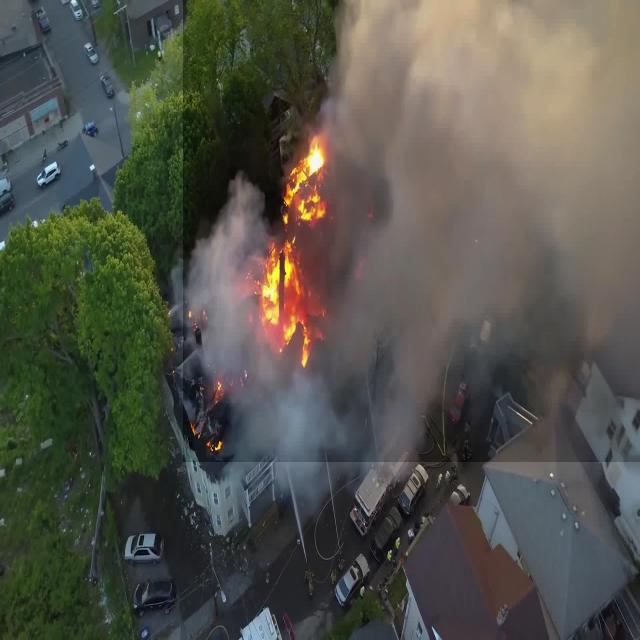Fire: (260, 134, 332, 370)
Smoke: (183, 0, 640, 462)
